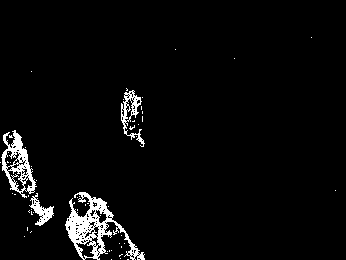person: (1, 130, 53, 224), (90, 195, 146, 260), (64, 188, 101, 260), (121, 87, 146, 147)
